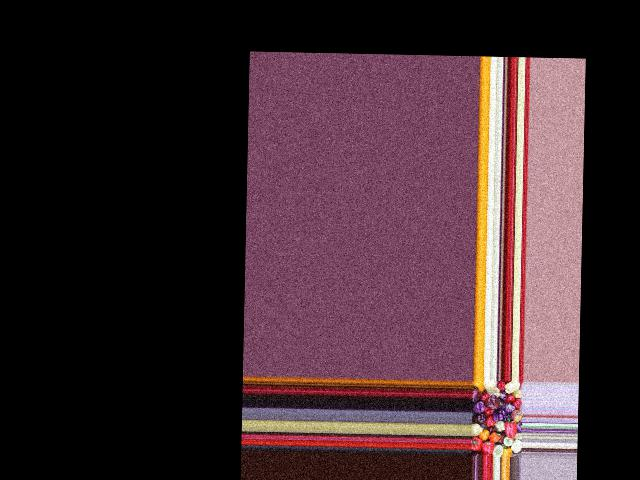bell_pepper: (492, 443, 502, 456)
